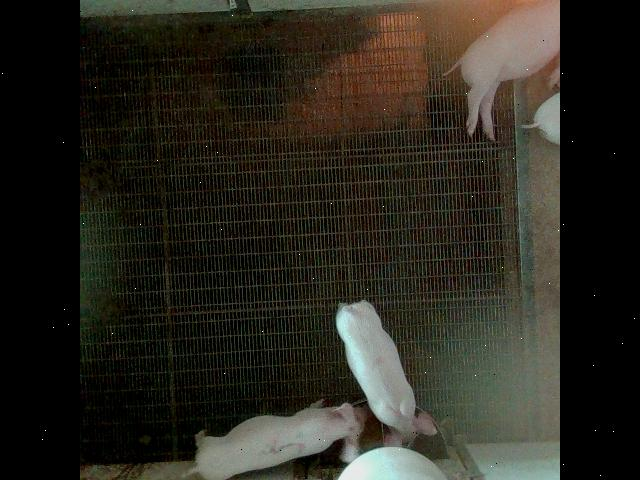pig-5: (185, 402, 366, 480)
